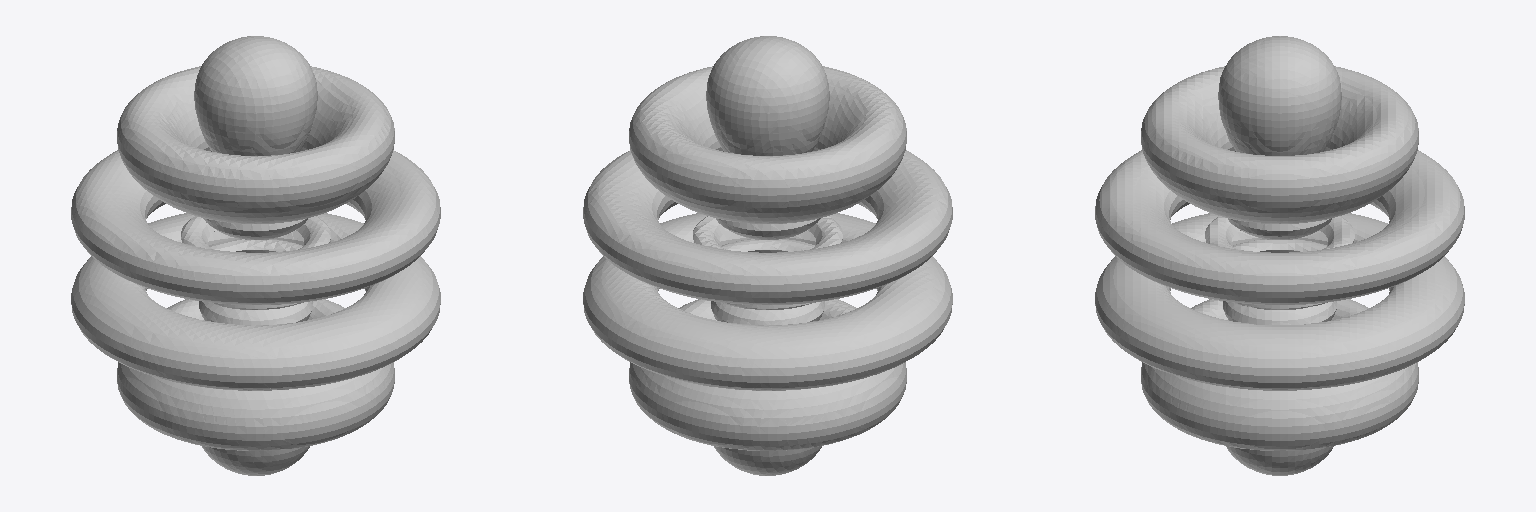
File: orb_n=7_ l=5 _m=0.obj
3 views of the same model, side by side, from view 1: azimuth 30°, elevation 25°; view 2: azimuth 150°, elevation 25°; view 3: azimuth 270°, elevation 25° (orthographic).
Visible parts, largest first — view 1: orb_n=7__l=5__m=0; view 2: orb_n=7__l=5__m=0; view 3: orb_n=7__l=5__m=0.
Boxes of the visible parts, box(x1,y1,x2,y2) form: orb_n=7__l=5__m=0: box(71, 36, 440, 475); orb_n=7__l=5__m=0: box(583, 36, 952, 475); orb_n=7__l=5__m=0: box(1095, 36, 1464, 475).
Size of the model in its own units: 159 by 203 by 159.